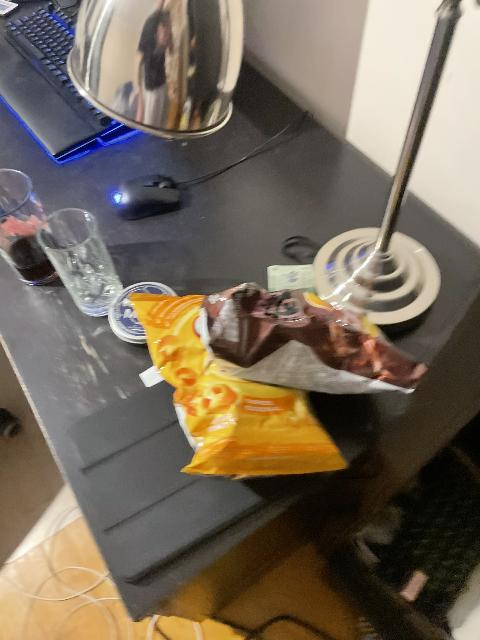Chio Hula Hoops Cheese 70g: (130, 290, 408, 474)
Lays Beef Grilled Ribs 125g: (202, 286, 424, 396)
